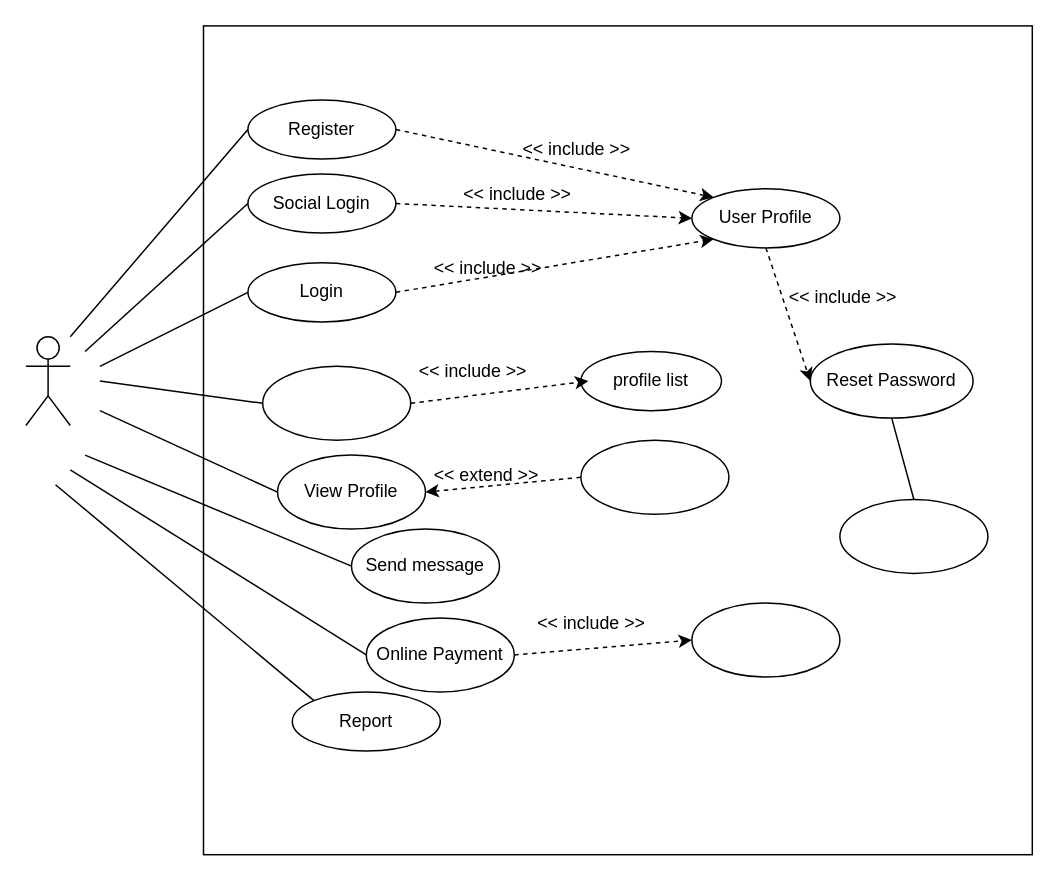
Some shapes in this 1058 by 881 pixel diagram are drawn without their labels. Each missing label, with the centre of its shape:
"Block Profile" goes at (654,476).
"Email Invoice" goes at (765,639).
"Search User profiles" goes at (336,402).
"Send Email" goes at (913,536).
"User" goes at (47,380).
